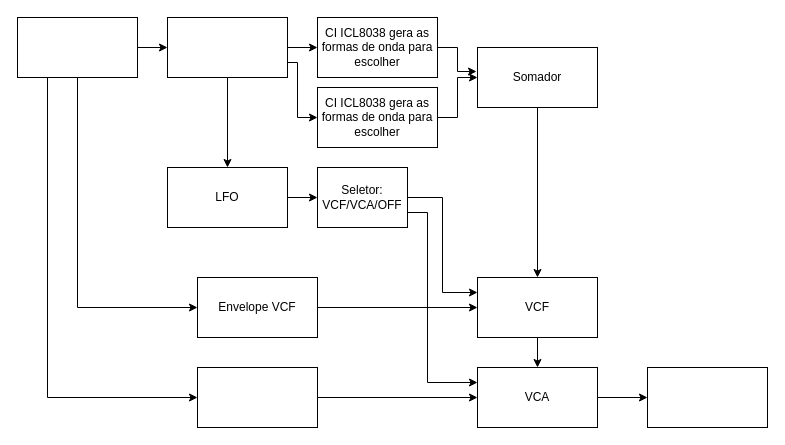
This 785x445 diagram has some shape labels left out. The shapes that lost their labels are listed below. From the top down, each one's centre as x and y in pixels, then its label:
(x=77, y=47): MIDI do teclado manda as notas e os triggers para os envelopes
(x=227, y=47): uC converte MIDI para 2 canais PWM (VCO) e LFO por PWM
(x=257, y=397): Envelope VCA
(x=707, y=397): Saída de áudio
